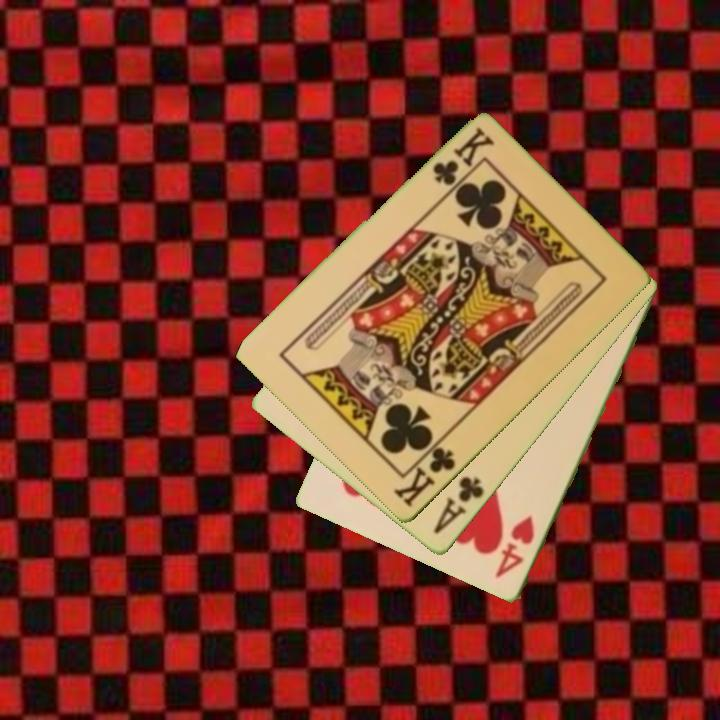4h: (491, 512, 538, 582)
Ac: (429, 473, 487, 538)
Kc: (390, 435, 459, 511), (428, 124, 495, 189)
